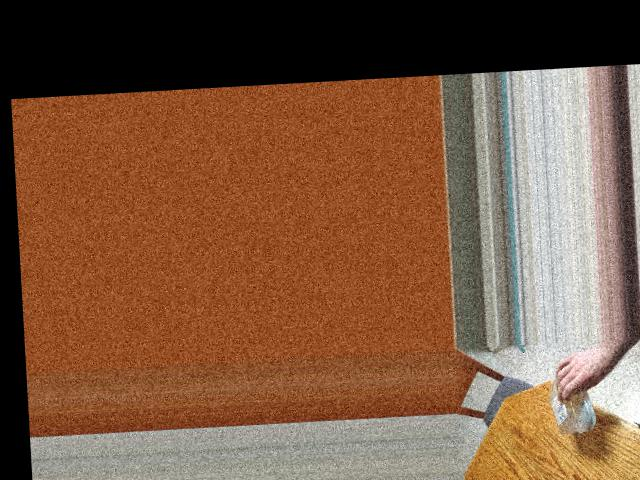cheese: (545, 357, 601, 422)
